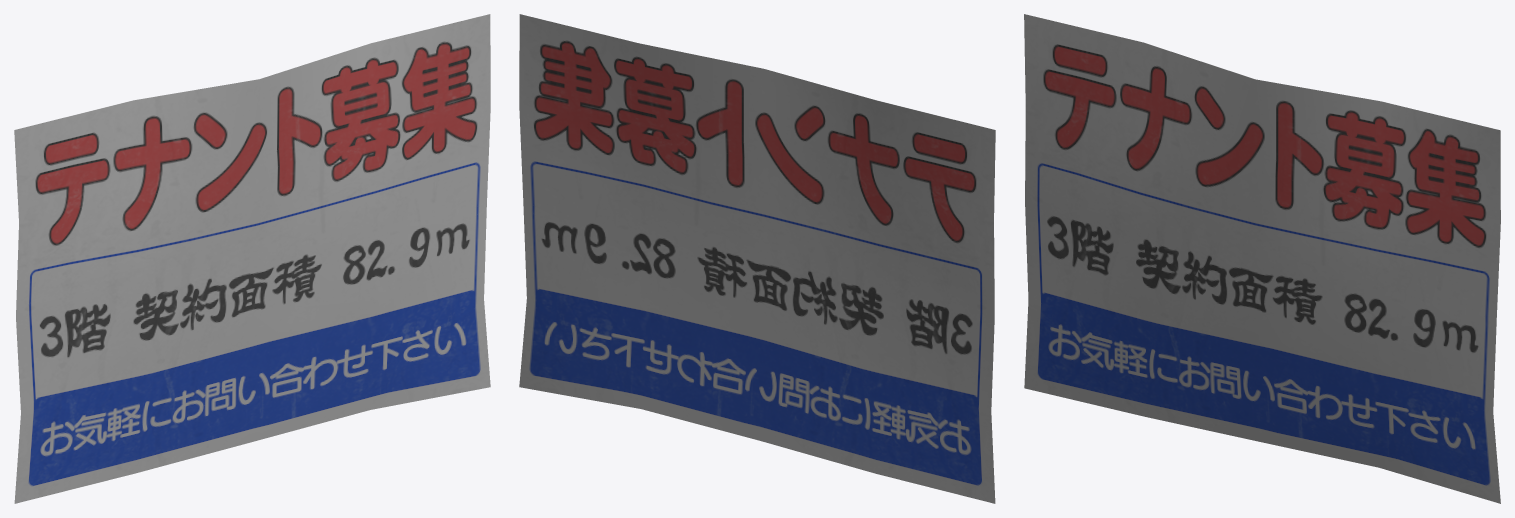
The model's file is posterH.fbx.
3 renders of one model, left to right at view 1: azimuth 30°, elevation 25°; view 2: azimuth 150°, elevation 25°; view 3: azimuth 330°, elevation 25°, orthographic.
Parts seen in each view (by area): view 1: posterH; view 2: posterH; view 3: posterH.
Boxes of the visible parts, <box> form: posterH: <box>14,14,490,503</box>; posterH: <box>519,14,995,503</box>; posterH: <box>1024,14,1500,503</box>.
Size of the model in its own units: 40.06 by 30.1 by 1.02.
Materials: 1 (1 with a texture image).
